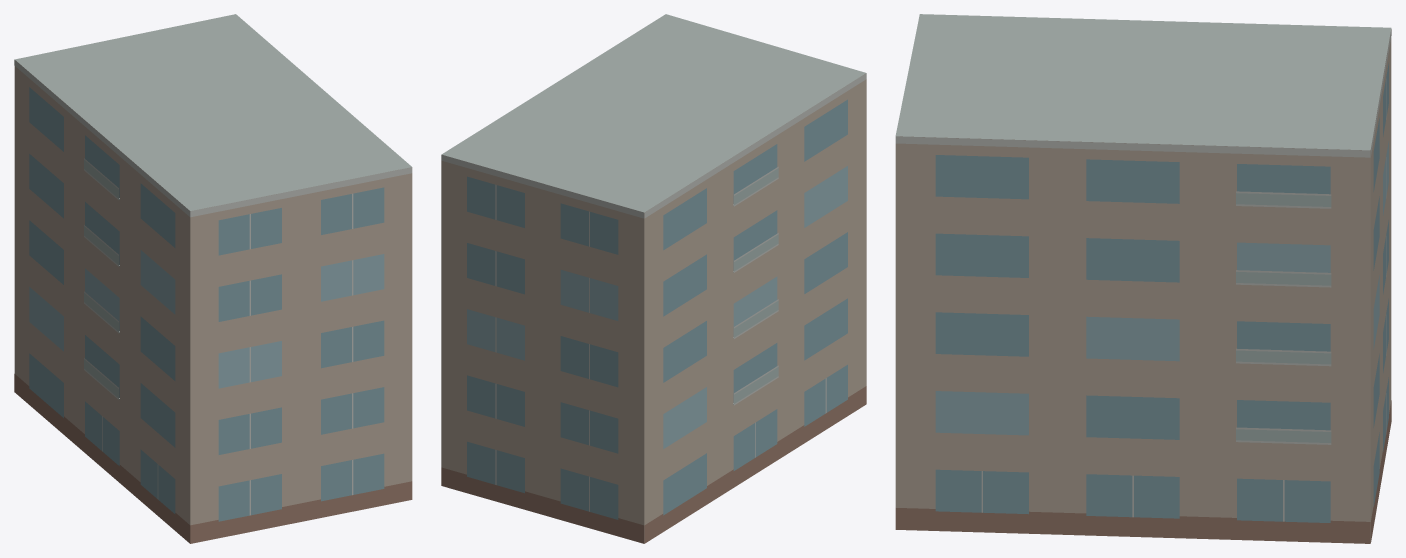
The model's file is survey-upis-32873157.glb.
3 views of the same model, side by side, from view 1: azimuth 30°, elevation 25°; view 2: azimuth 150°, elevation 25°; view 3: azimuth 270°, elevation 25° (orthographic). The views are drawn at different scales.
Parts seen in each view (by area): view 1: survey-upis-32873157.tmp; view 2: survey-upis-32873157.tmp; view 3: survey-upis-32873157.tmp.
Boxes of the visible parts, x1,y1,x2,y2 form: survey-upis-32873157.tmp: (14,14,412,543); survey-upis-32873157.tmp: (441,14,866,543); survey-upis-32873157.tmp: (895,14,1391,543).
Bounding box in the file's own units: 9.82 × 13.2 × 15.09.
